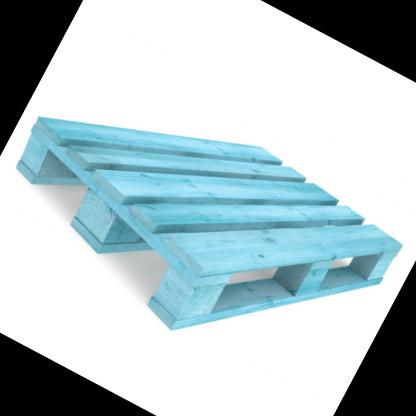BoxFace: (13, 114, 408, 333)
